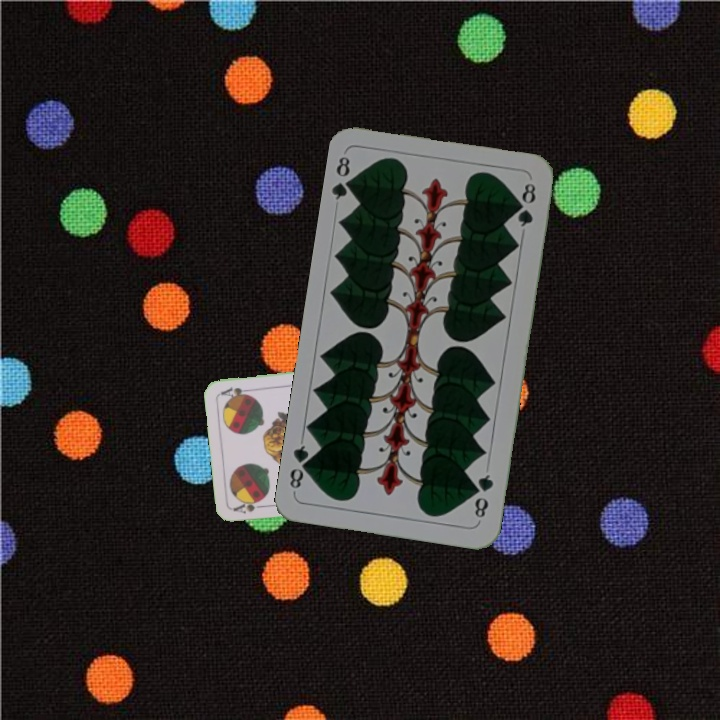G8: (328, 152, 359, 202), (470, 470, 496, 521)
SA: (230, 497, 271, 516)
